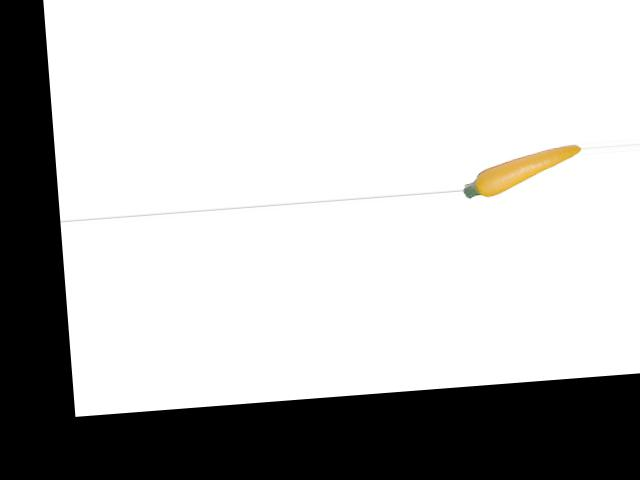carrot: (459, 144, 583, 199)
